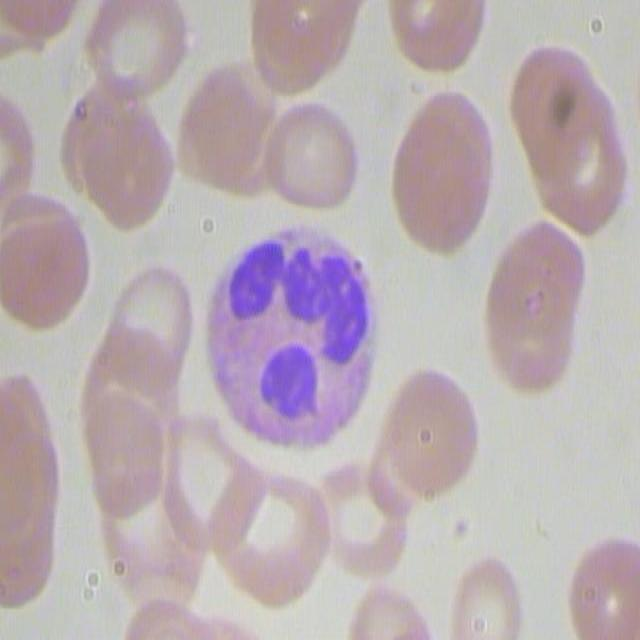RBC: (89, 408, 215, 606), (515, 38, 631, 235), (205, 460, 331, 609), (486, 218, 590, 394), (103, 243, 189, 454), (61, 77, 176, 232), (389, 83, 493, 253), (0, 360, 66, 610), (368, 363, 479, 508), (172, 62, 278, 202), (259, 96, 369, 214), (83, 0, 191, 112), (0, 196, 86, 331), (310, 461, 410, 574), (242, 1, 356, 100), (155, 418, 240, 542), (564, 532, 640, 637), (382, 0, 491, 71), (442, 552, 529, 638), (0, 3, 98, 72), (347, 589, 461, 640)
WBC: (204, 203, 384, 472)
